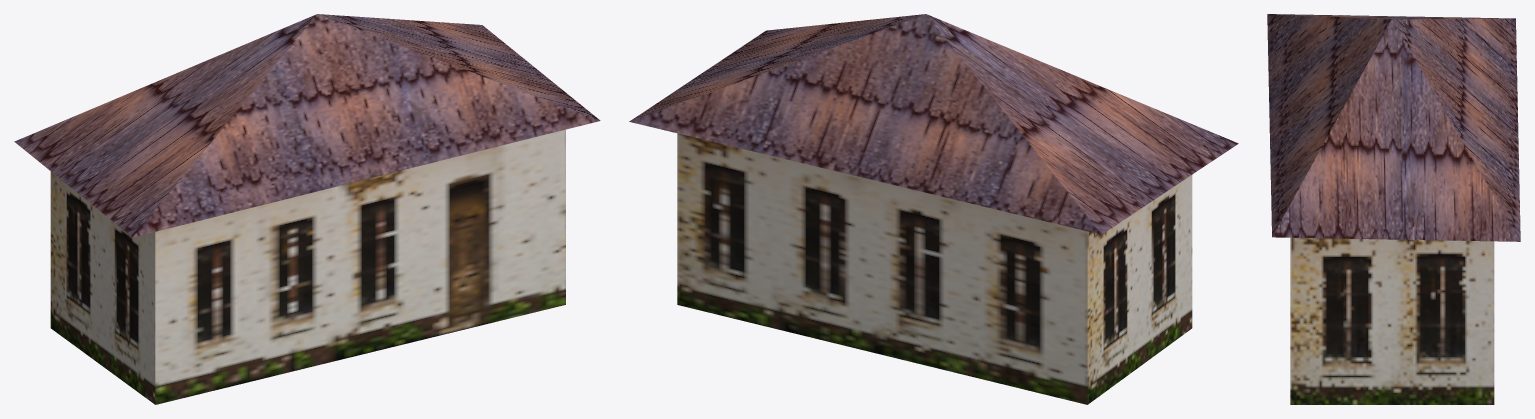
Rendered from house.fbx.
3 renders of one model, left to right at view 1: azimuth 30°, elevation 25°; view 2: azimuth 150°, elevation 25°; view 3: azimuth 270°, elevation 25°, orthographic. The views are drawn at different scales.
Parts seen in each view (by area): view 1: Cube, Cone; view 2: Cube, Cone; view 3: Cone, Cube.
Part boxes in pixels (<box>): Cube: <box>50,129,565,404</box>; Cone: <box>14,14,600,237</box>; Cube: <box>677,133,1192,404</box>; Cone: <box>629,14,1238,234</box>; Cone: <box>1267,14,1520,241</box>; Cube: <box>1290,237,1494,404</box>.
Bounding box in the file's own units: 529 × 317 × 249.
